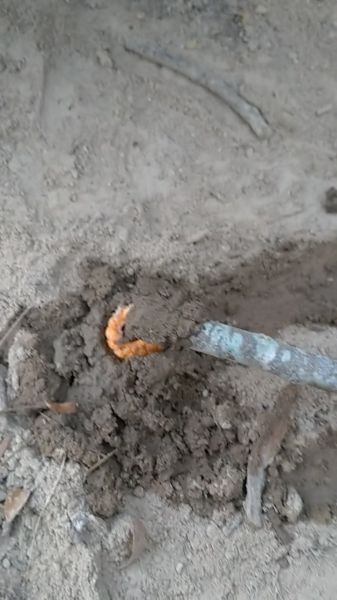eggs: (101, 295, 174, 364)
